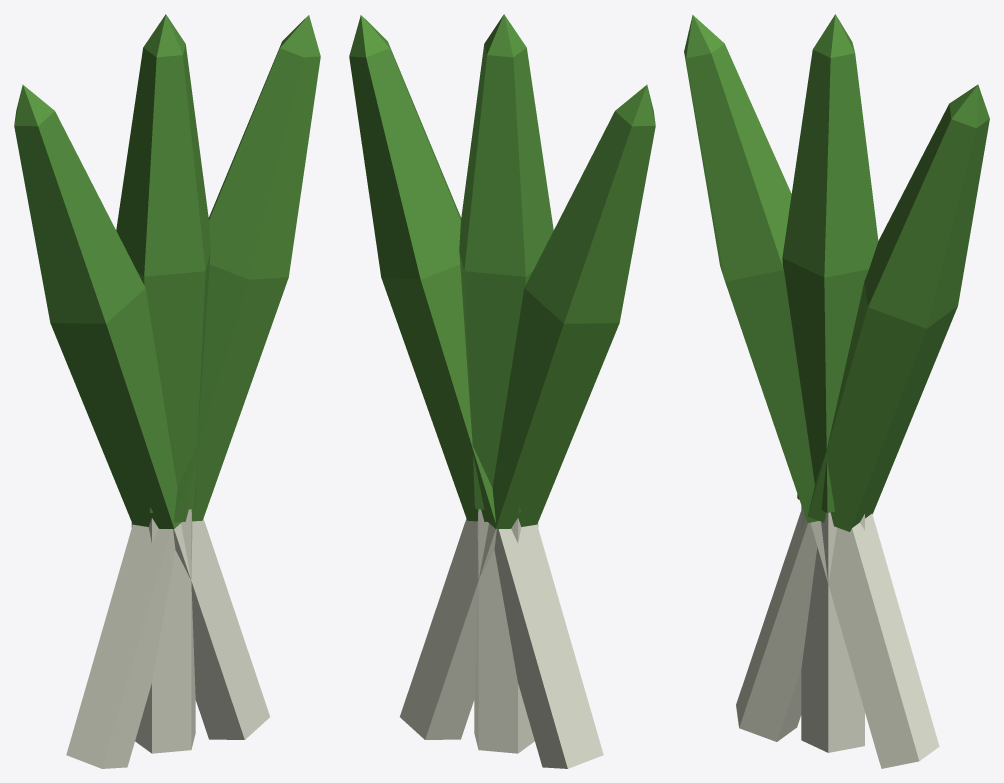
Rendered from Food_Scallion.obj.
3 renders of one model, left to right at view 1: azimuth 30°, elevation 25°; view 2: azimuth 150°, elevation 25°; view 3: azimuth 330°, elevation 25°, orthographic.
Size of the model in its own units: 0.9073 by 2.13 by 0.2662.
